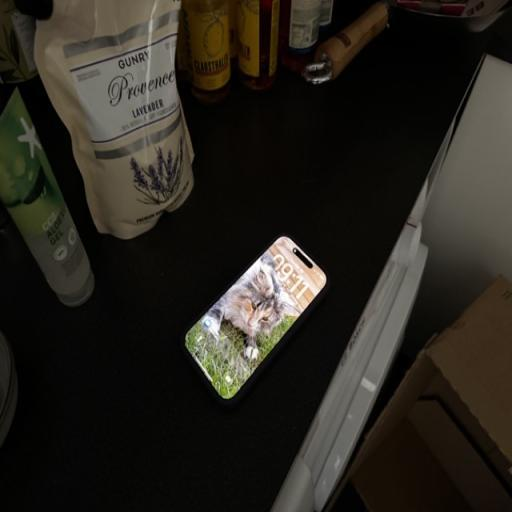phone: (187, 228, 332, 408)
